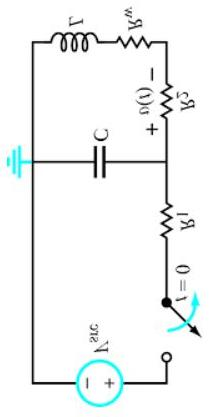Capacitor: (81, 130, 118, 188)
